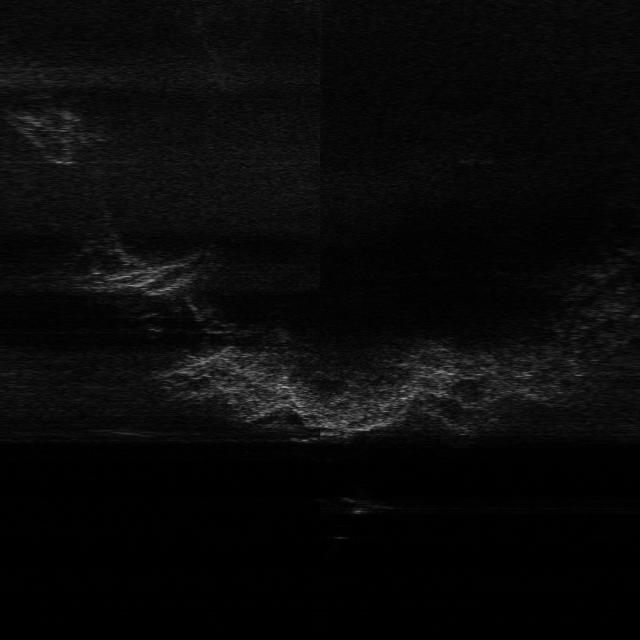plane: (340, 491, 400, 516)
